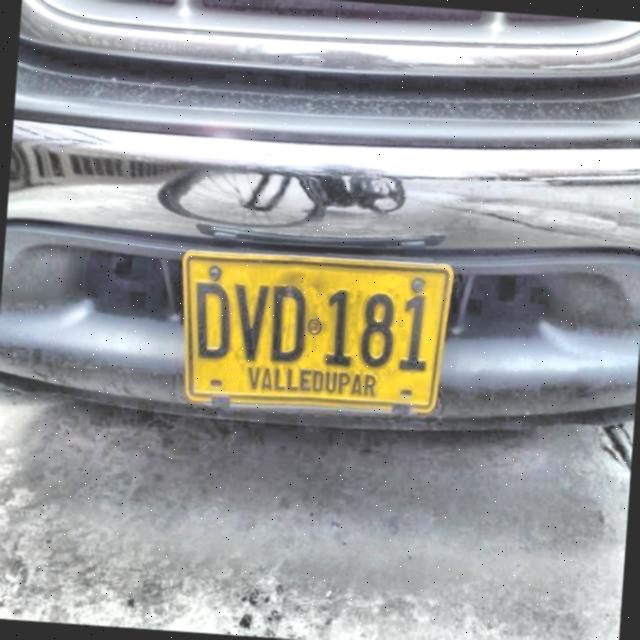1: (397, 292, 433, 374), (322, 288, 356, 369)
8: (357, 290, 397, 370)
D: (193, 280, 233, 362), (267, 283, 308, 363)
V: (232, 282, 270, 363)
